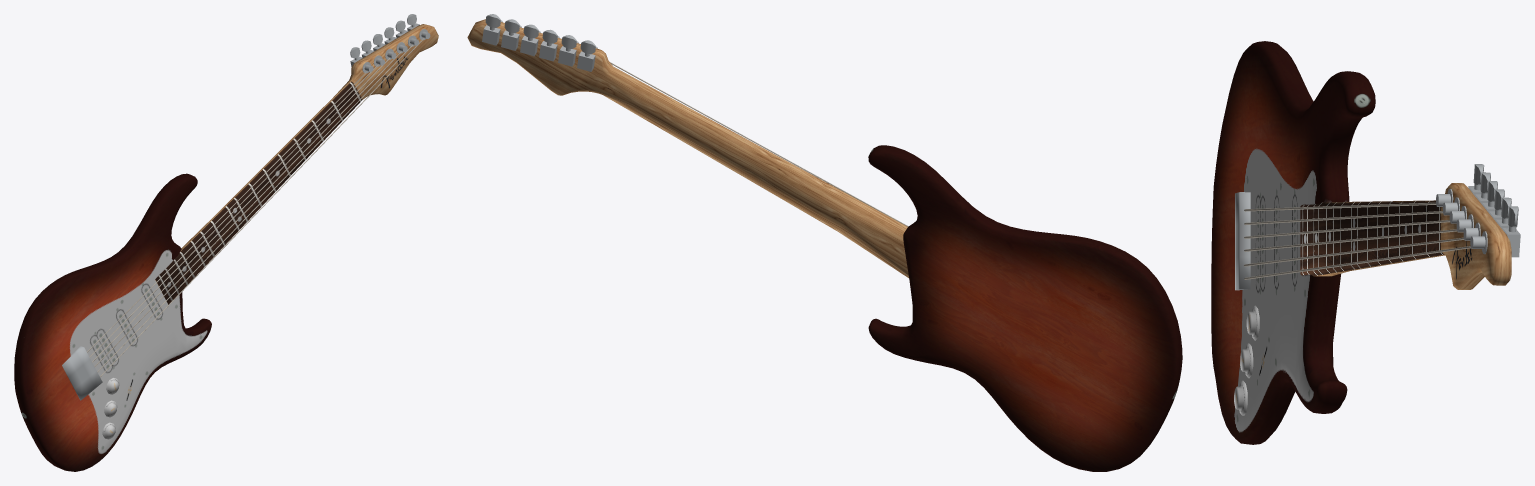
File: instruments.obj
3 views of the same model, side by side, from view 1: azimuth 30°, elevation 25°; view 2: azimuth 150°, elevation 25°; view 3: azimuth 270°, elevation 25° (orthographic). The views are drawn at different scales.
Visible parts, largest first — view 1: Object_5, Object_9, Object_11, Object_25, Object_23, Object_21, Object_19, Object_17, Object_15, Object_7.001, Object_13; view 2: Object_5, Object_9, Object_11; view 3: Object_5, Object_9, Object_11, Object_25, Object_7.001, Object_23, Object_21, Object_19, Object_17, Object_15, Object_13.
Boxes of the visible parts, x1,y1,x2,y2 form: Object_5: (14, 173, 211, 471); Object_9: (155, 24, 438, 304); Object_11: (350, 14, 430, 73); Object_25: (62, 346, 102, 400); Object_23: (100, 38, 424, 377); Object_21: (97, 44, 412, 372); Object_19: (94, 51, 401, 366); Object_17: (92, 58, 390, 362); Object_15: (89, 64, 378, 357); Object_7.001: (102, 378, 119, 439); Object_13: (87, 71, 367, 352); Object_5: (868, 145, 1182, 471); Object_9: (467, 19, 908, 277); Object_11: (482, 14, 597, 71); Object_5: (1211, 41, 1375, 444); Object_9: (1300, 183, 1511, 289); Object_11: (1436, 164, 1520, 257); Object_25: (1235, 192, 1250, 290); Object_7.001: (1234, 305, 1259, 415); Object_23: (1244, 246, 1470, 279); Object_21: (1244, 237, 1464, 266); Object_19: (1244, 229, 1456, 251); Object_17: (1244, 220, 1449, 238); Object_15: (1244, 211, 1442, 225); Object_13: (1244, 202, 1436, 211).
Size of the model in its own units: 0.4827 by 0.2906 by 0.1326.
1 material, 1 textured.
